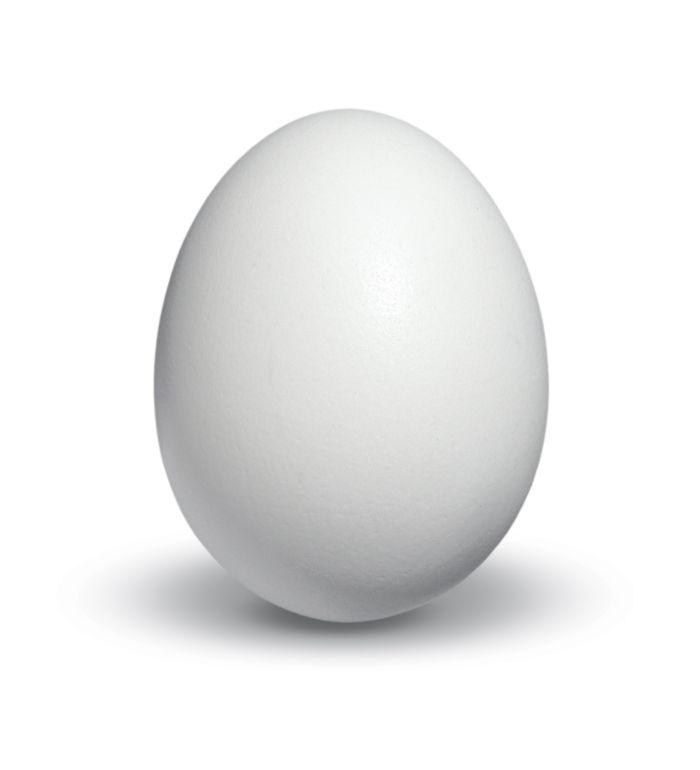egg: (144, 103, 555, 632)
